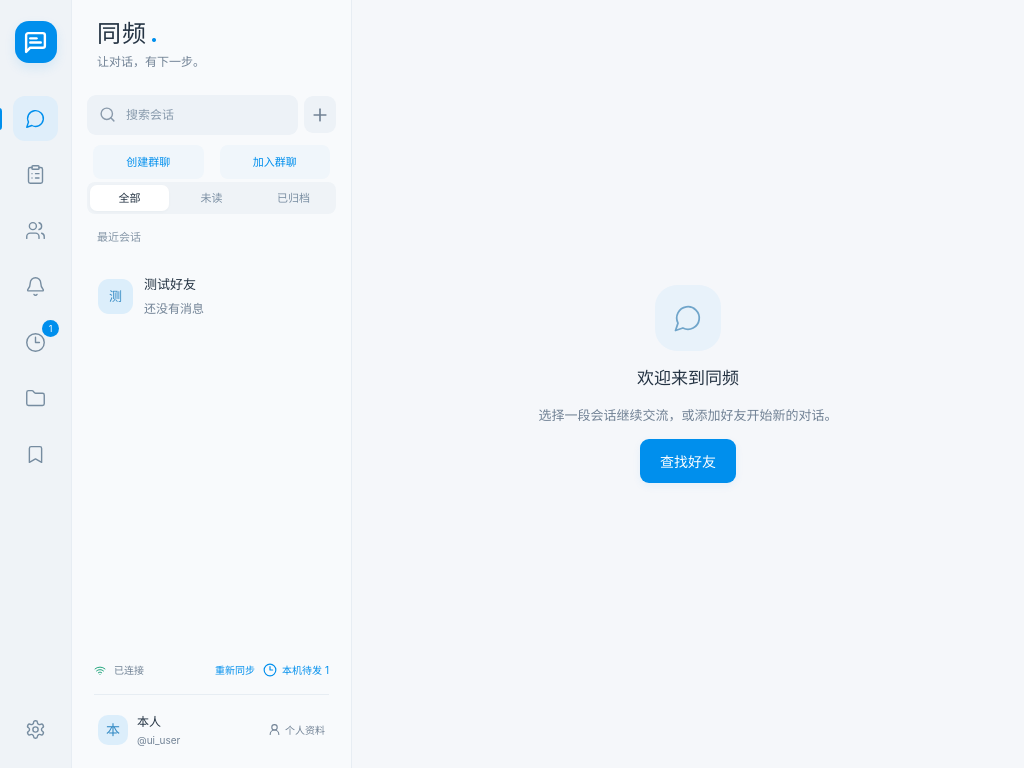
it: M6-UI attachment draft lifecycle › copies failed queue attachments into a separate draft without reusing their upload binding
Step 1. Click the button "本机待发 1" → (296, 670), box [263,659,329,682]
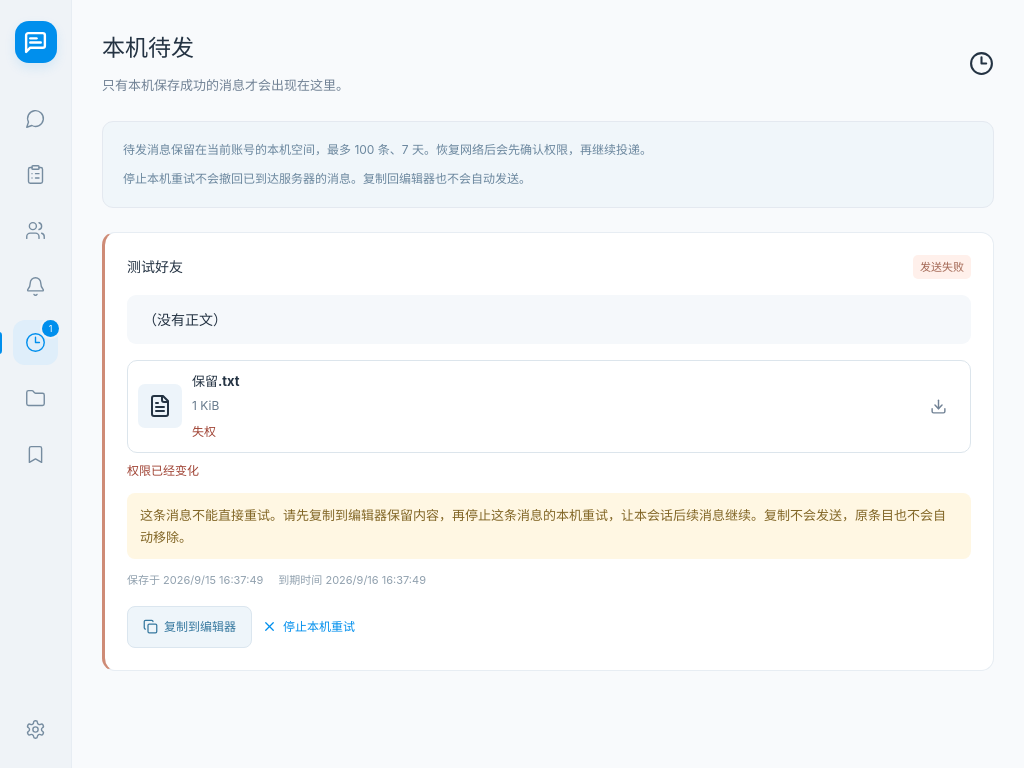
Expected: the heading "本机待发" is shown, [102,34,194,62]
Step 2. Click the button "复制到编辑器" → (190, 627), box [127,606,252,648]
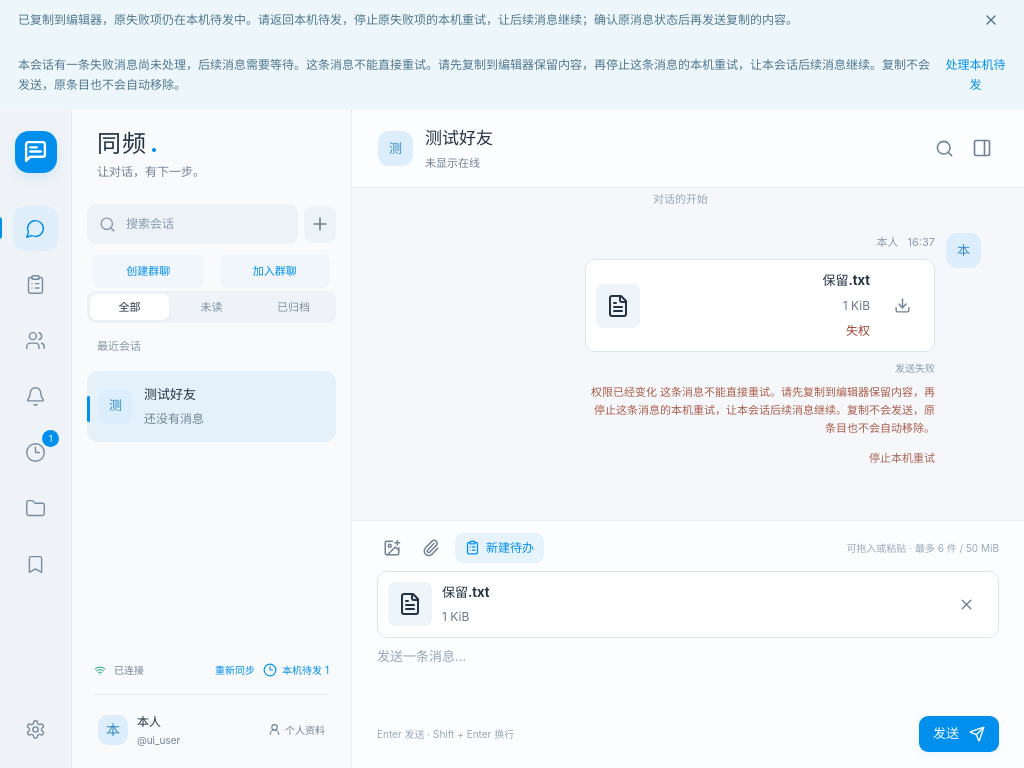
Now the text "原失败项仍在本机待发中" is shown, box [18,12,798,27]
